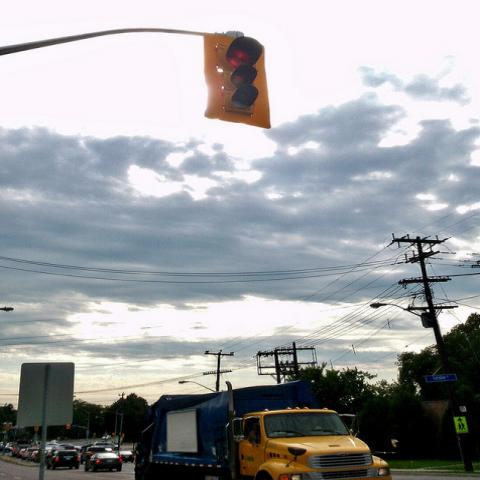car: (84, 452, 123, 472), (47, 450, 81, 470), (80, 446, 114, 464), (46, 443, 82, 452), (84, 442, 118, 450), (22, 447, 43, 459), (10, 444, 31, 456), (116, 451, 134, 464), (46, 443, 59, 457), (26, 451, 39, 461), (17, 448, 28, 459), (0, 444, 12, 453), (102, 435, 111, 440), (50, 439, 58, 443)
truck: (134, 379, 399, 479)
